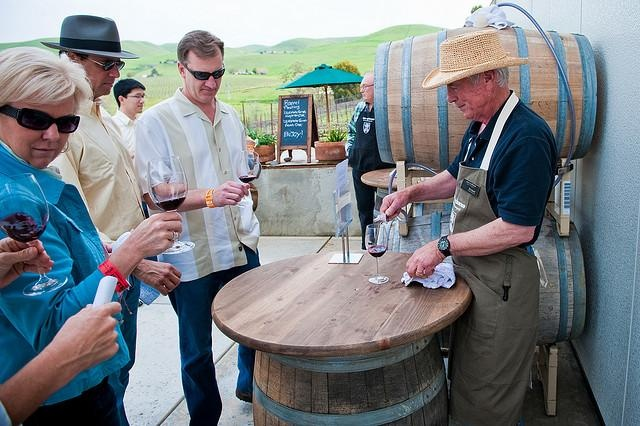person: (366, 12, 571, 426), (1, 45, 200, 426), (36, 12, 182, 426), (153, 27, 283, 426), (338, 71, 412, 254), (106, 78, 147, 169)
